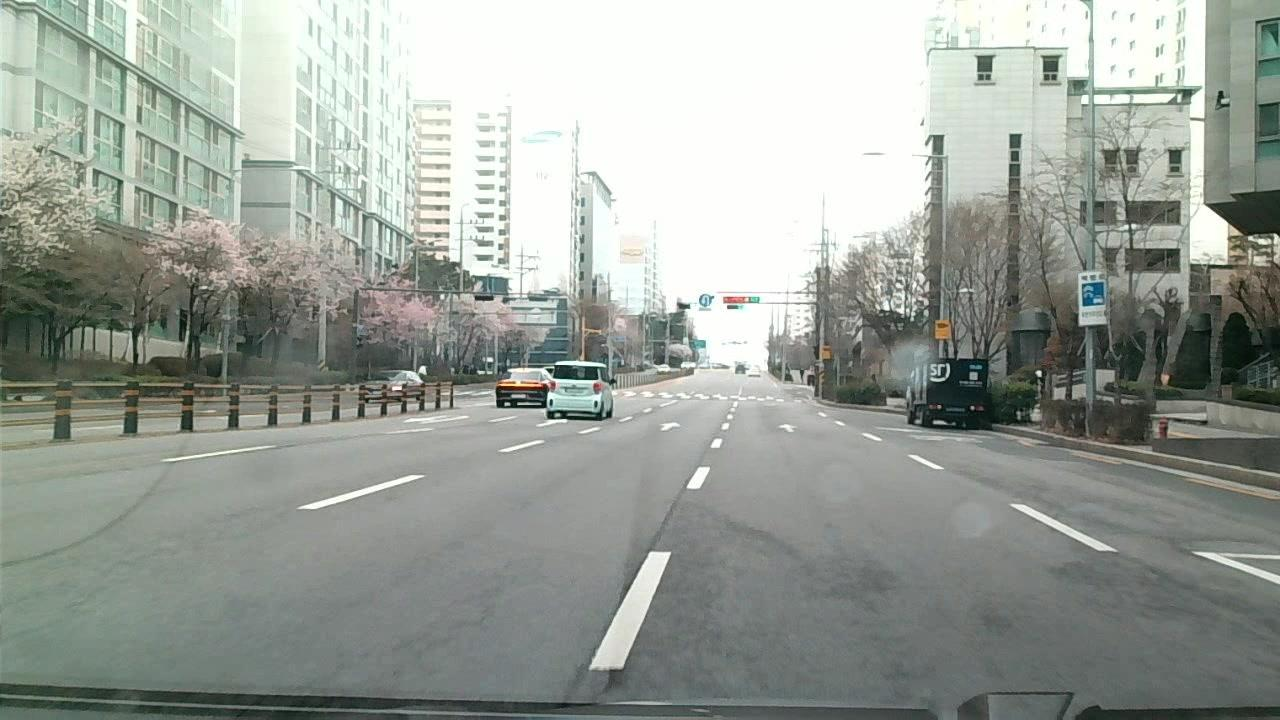banner: (650, 486, 690, 549)
